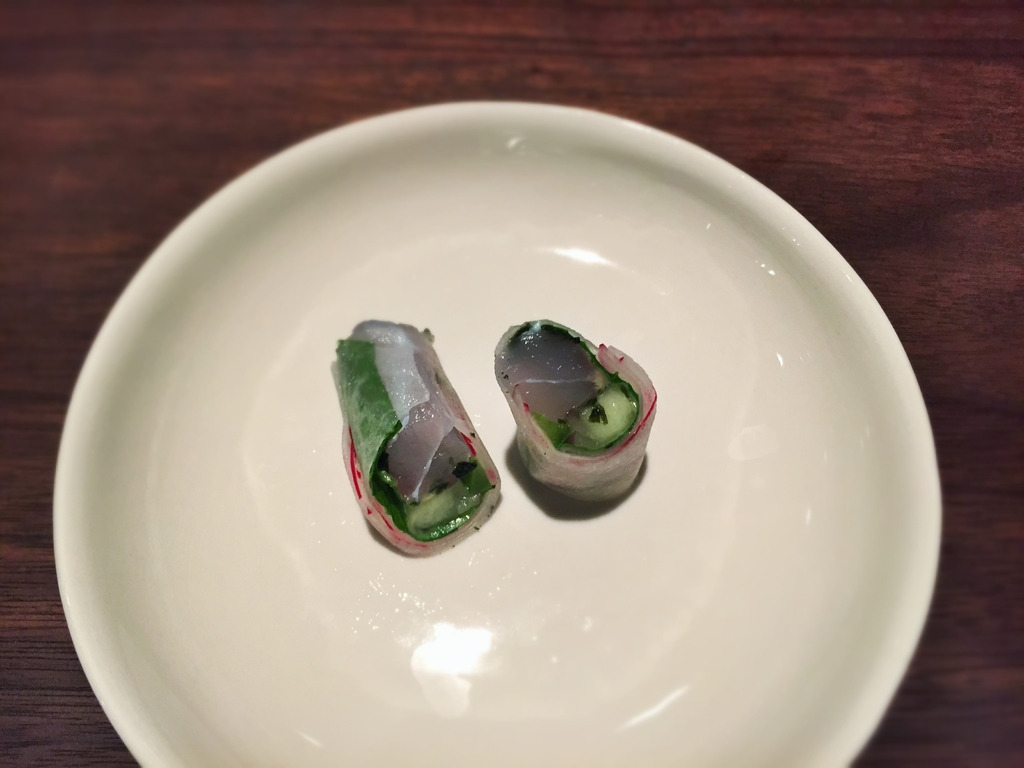plate: (28, 71, 949, 767)
